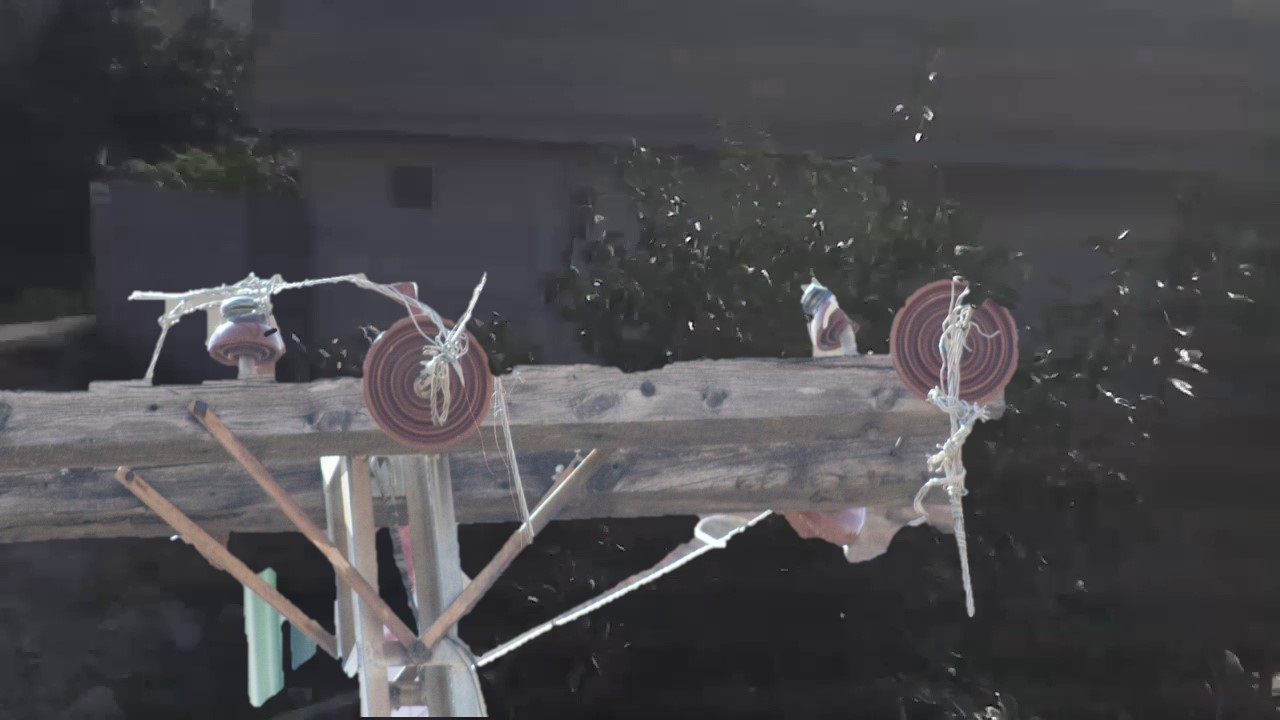defect_pin: (794, 275, 864, 361)
insulator_disc: (882, 268, 1023, 415), (359, 310, 495, 451)
insulator_pin: (201, 288, 291, 374)
